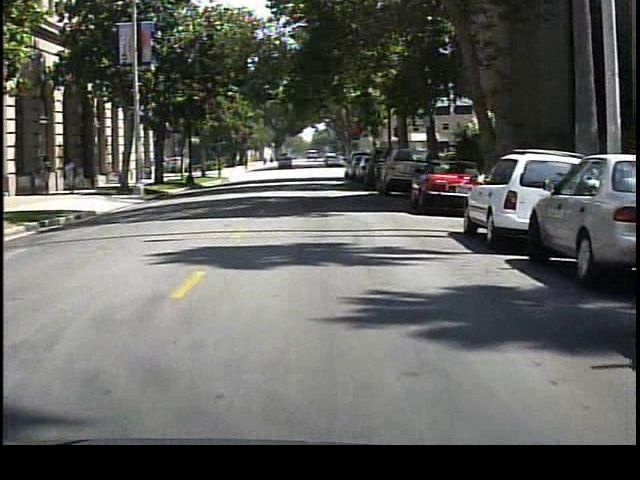person: (61, 156, 85, 196), (40, 152, 60, 193)
